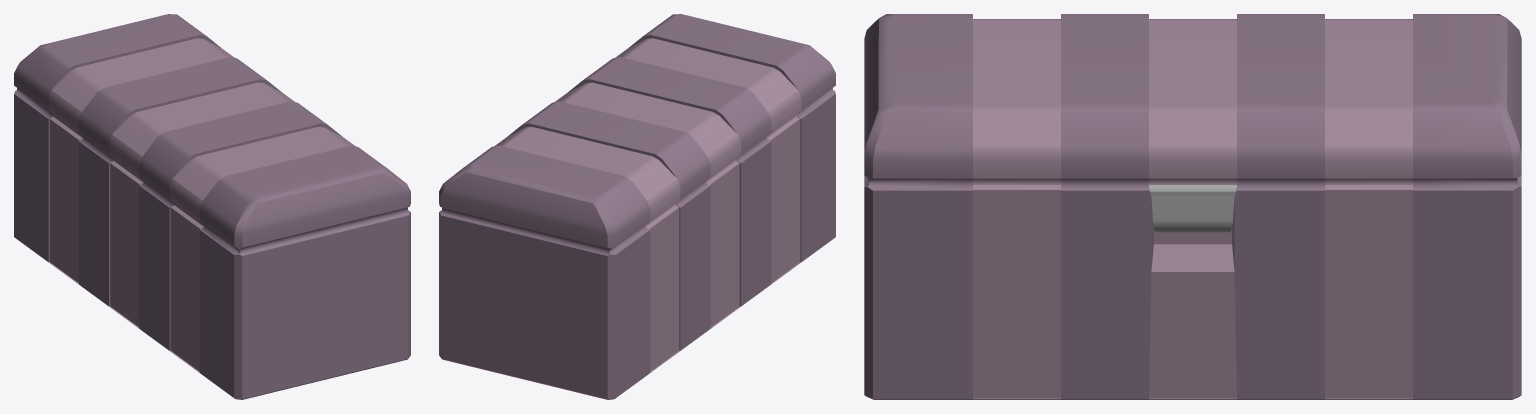
File: toy_chest.fbx
The picture shows the model from 3 angles, left to right: view 1: azimuth 30°, elevation 25°; view 2: azimuth 150°, elevation 25°; view 3: azimuth 270°, elevation 25°; orthographic projection. The views are drawn at different scales.
Parts seen in each view (by area): view 1: polySurface1302; view 2: polySurface1302; view 3: polySurface1302.
Boxes of the visible parts, <box> form: polySurface1302: <box>14,14,410,399</box>; polySurface1302: <box>439,14,835,399</box>; polySurface1302: <box>864,14,1521,399</box>.
Bounding box in the file's own units: 10.63 × 11.05 × 23.58.
